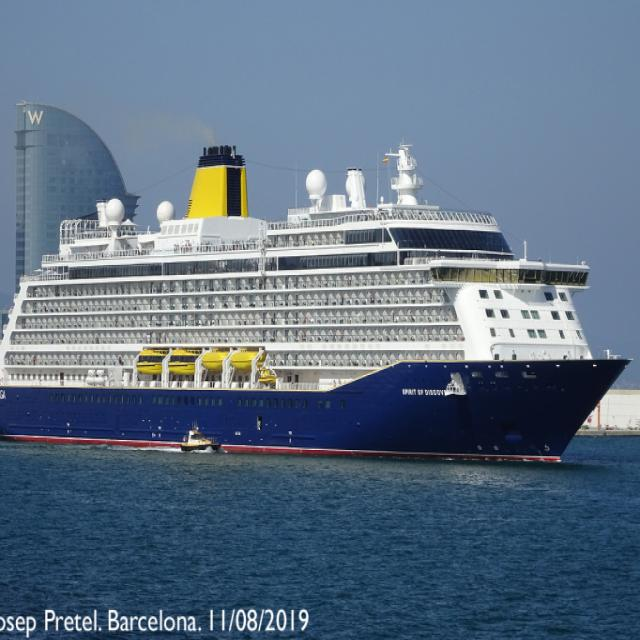cruises: (1, 142, 638, 476)
